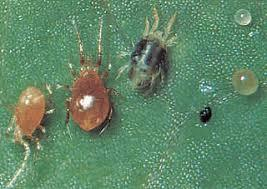Insects: (58, 16, 123, 141), (113, 4, 186, 98), (1, 78, 58, 189)
